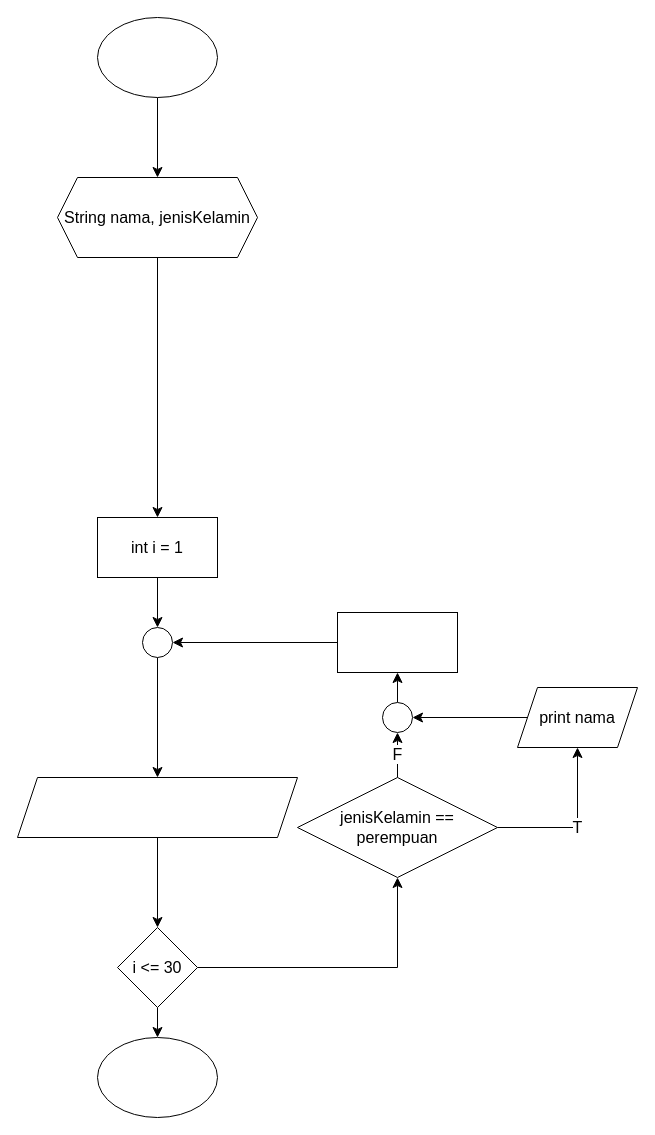
Some shapes in this 655 by 1135 pixel diagram are drawn without their labels. Here are the shapes that lost their labels. From the top down, the centre of each, then its label:
the point at 397,642: i ++
the point at 157,807: GET nama, jenisKelamin
